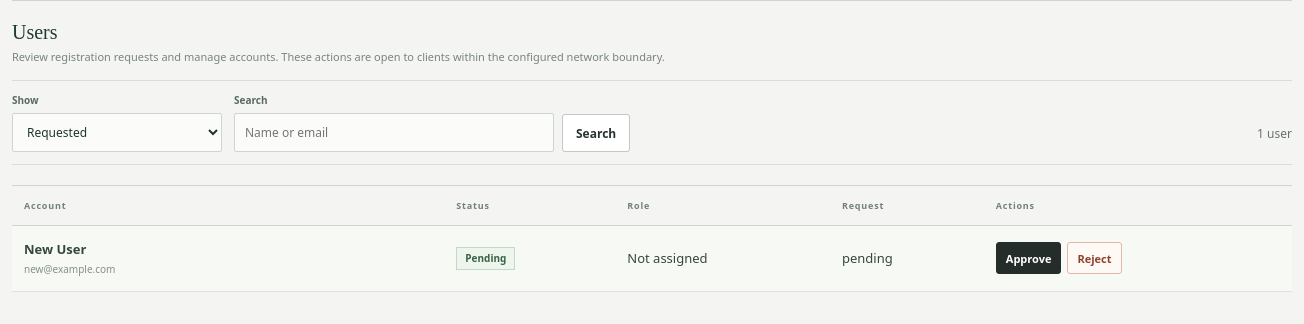
Test: UsersView › shows a mutation error without hiding the open users list
expect the text "new@example.com" is shown: met, box [24,262,115,276]
Step 1. Click the button "Approve" → (1029, 258), box [996,242,1061,274]
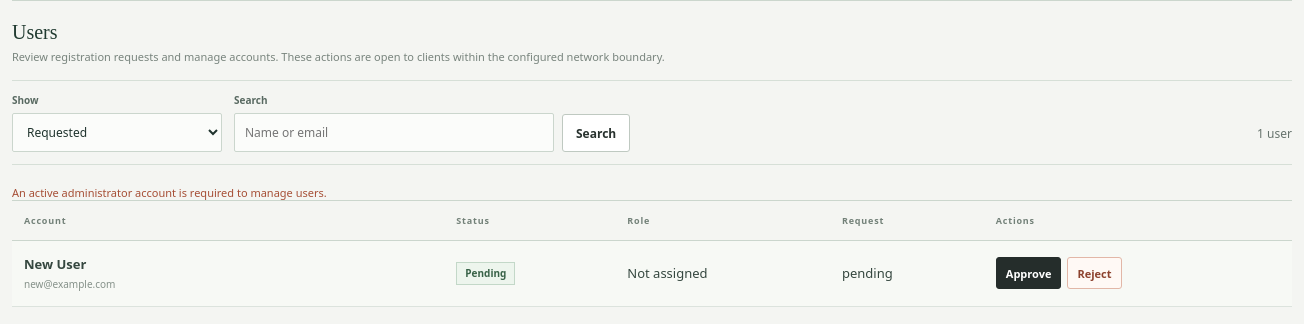
expect the text "An active administrator account is required to manage users." is shown: met, box [12,185,327,200]
